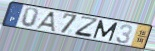0: (20, 7, 40, 29)
3: (116, 24, 133, 44)
7: (60, 12, 79, 35)
A: (34, 11, 56, 33)
M: (92, 19, 119, 42)
Z: (73, 15, 100, 40)
